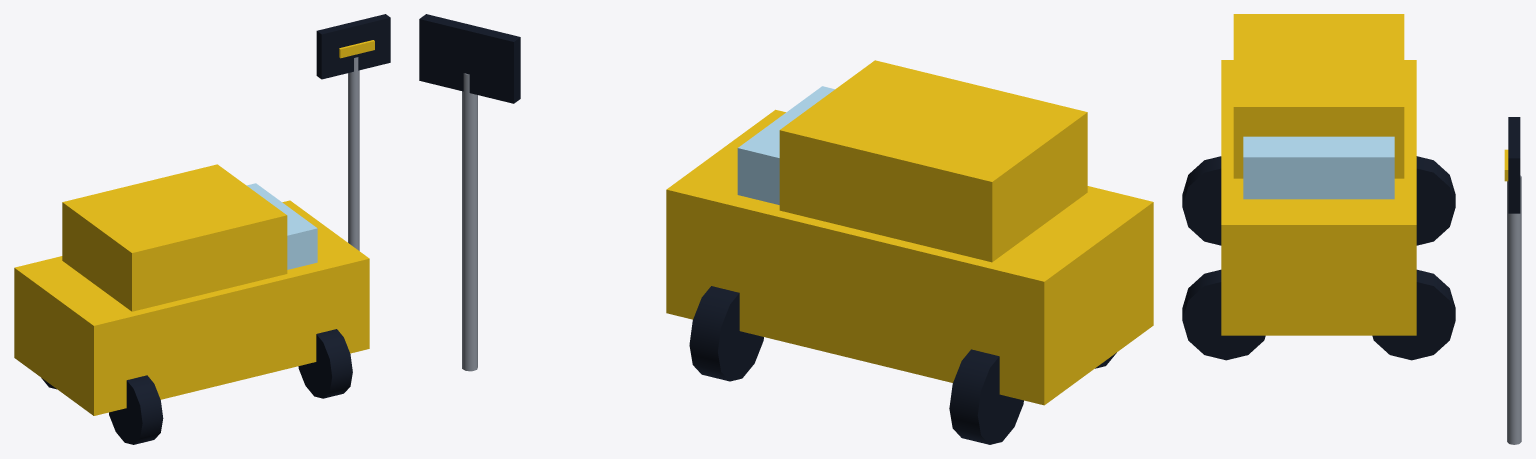
File: taxi.glb
3 renders of one model, left to right at view 1: azimuth 30°, elevation 25°; view 2: azimuth 150°, elevation 25°; view 3: azimuth 270°, elevation 25°, orthographic. The views are drawn at different scales.
Size of what is drawn, in the model's own units: 2.4 by 1.38 by 1.39.
